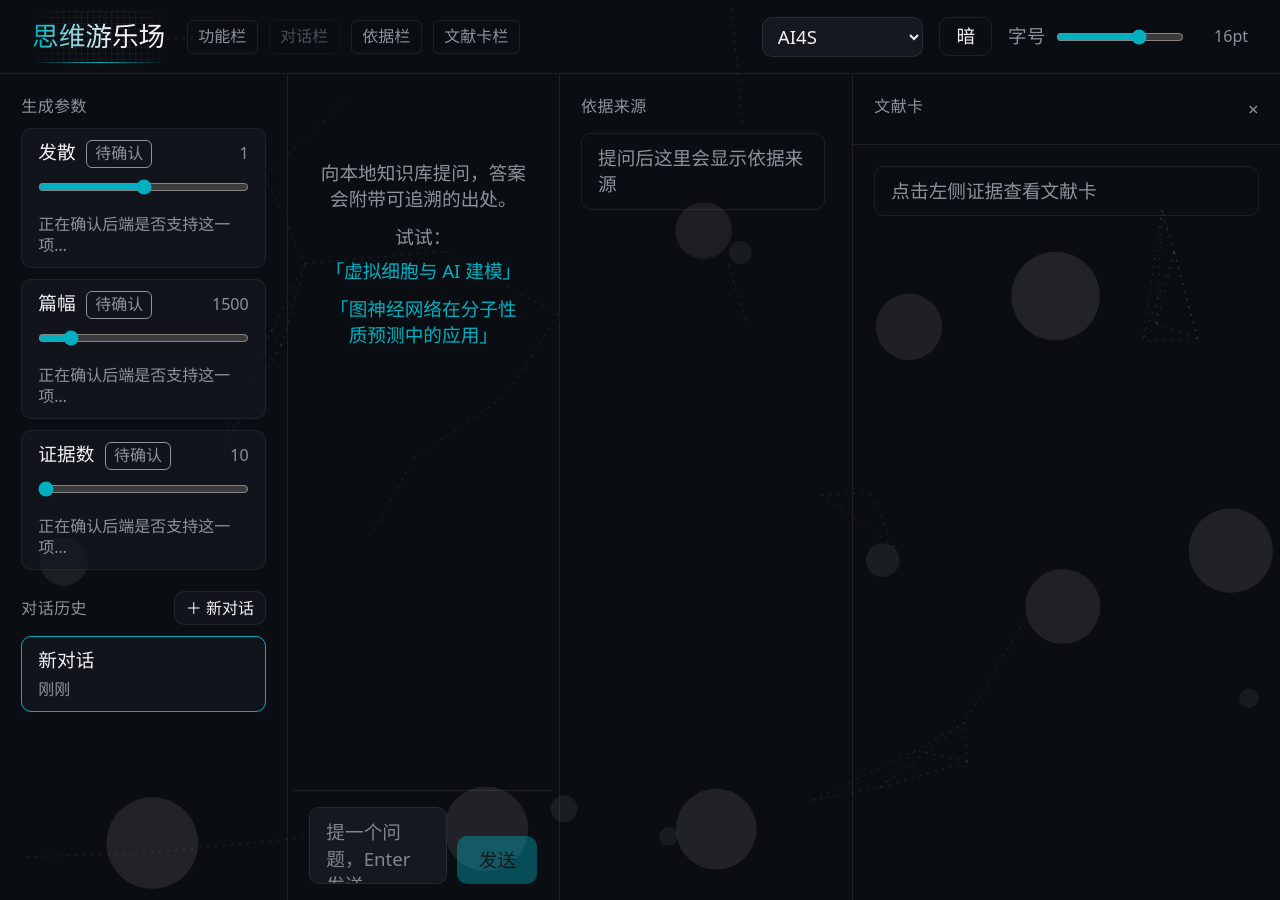
Test case: App › 关闭文献卡同时清掉选中态，再点同一张卡可重新打开（I1）
Type "自噬" into the text box.
click(378, 846); type("自噬")  # box [309,807,447,884]
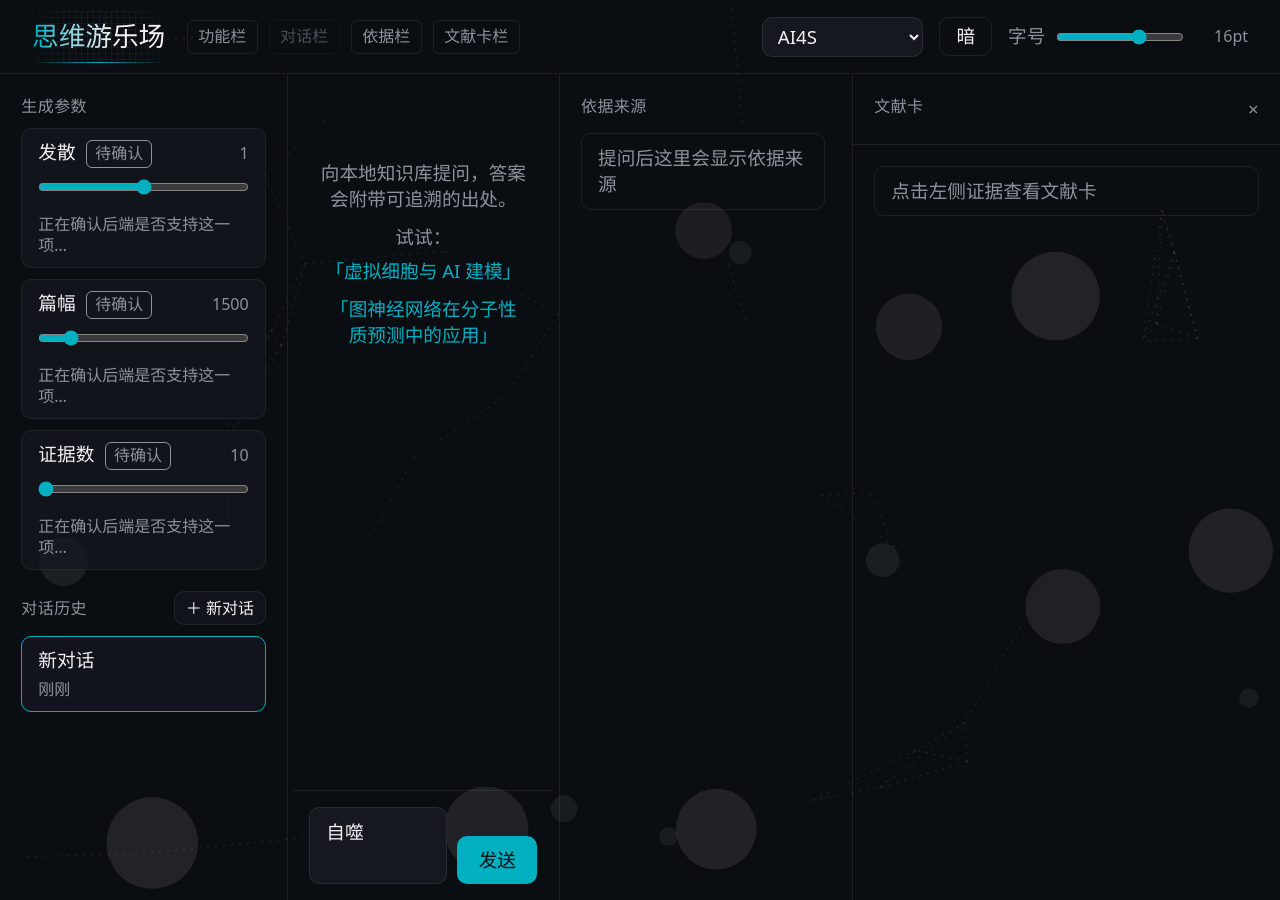
Press Enter in the text box, box [309,807,447,884]
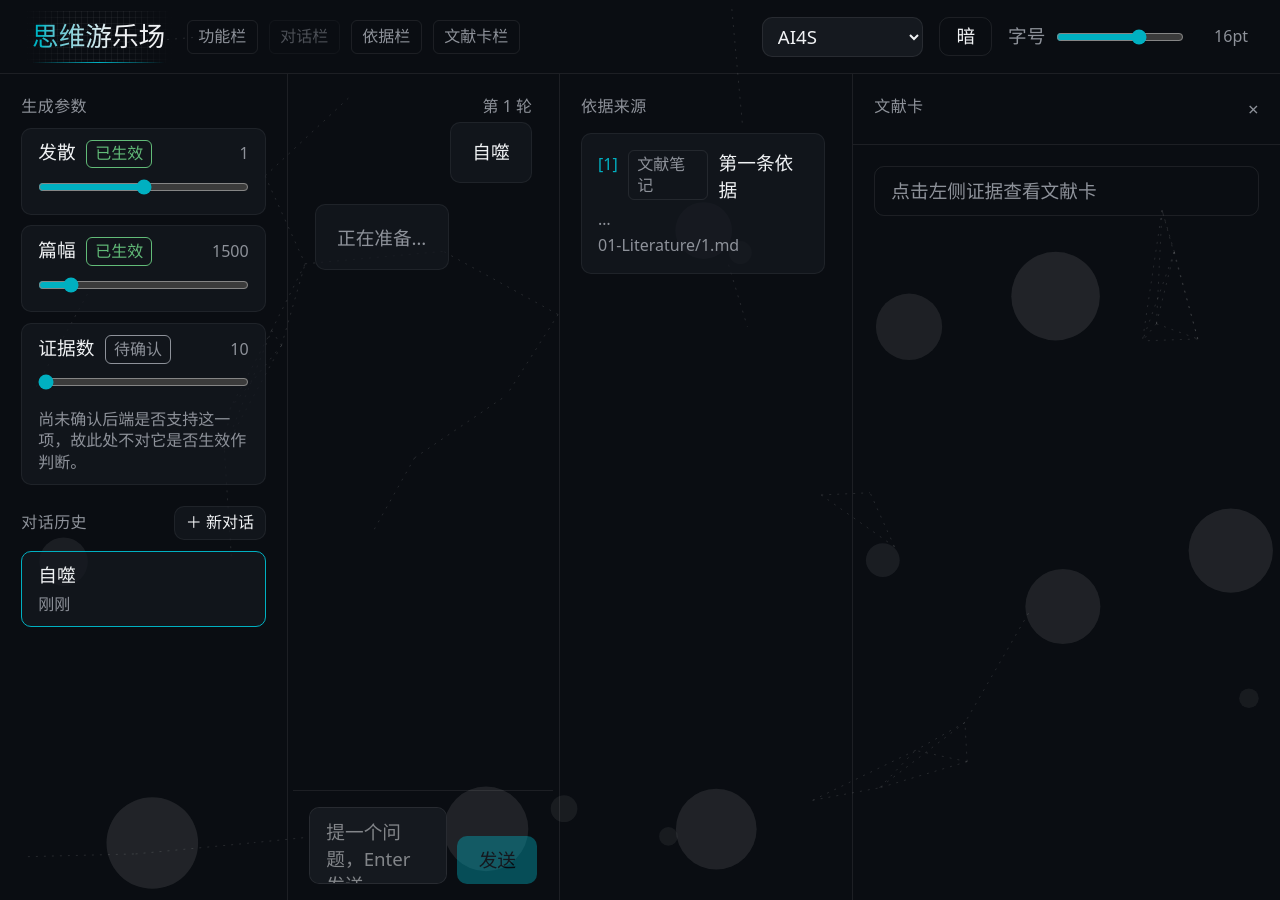
Now the text "第一条依据" is shown, box [719,150,793,202]
Click the button "[1] 文献笔记 第一条依据 … 01-Literature/1.md".
click(703, 203)  # box [598,150,808,257]
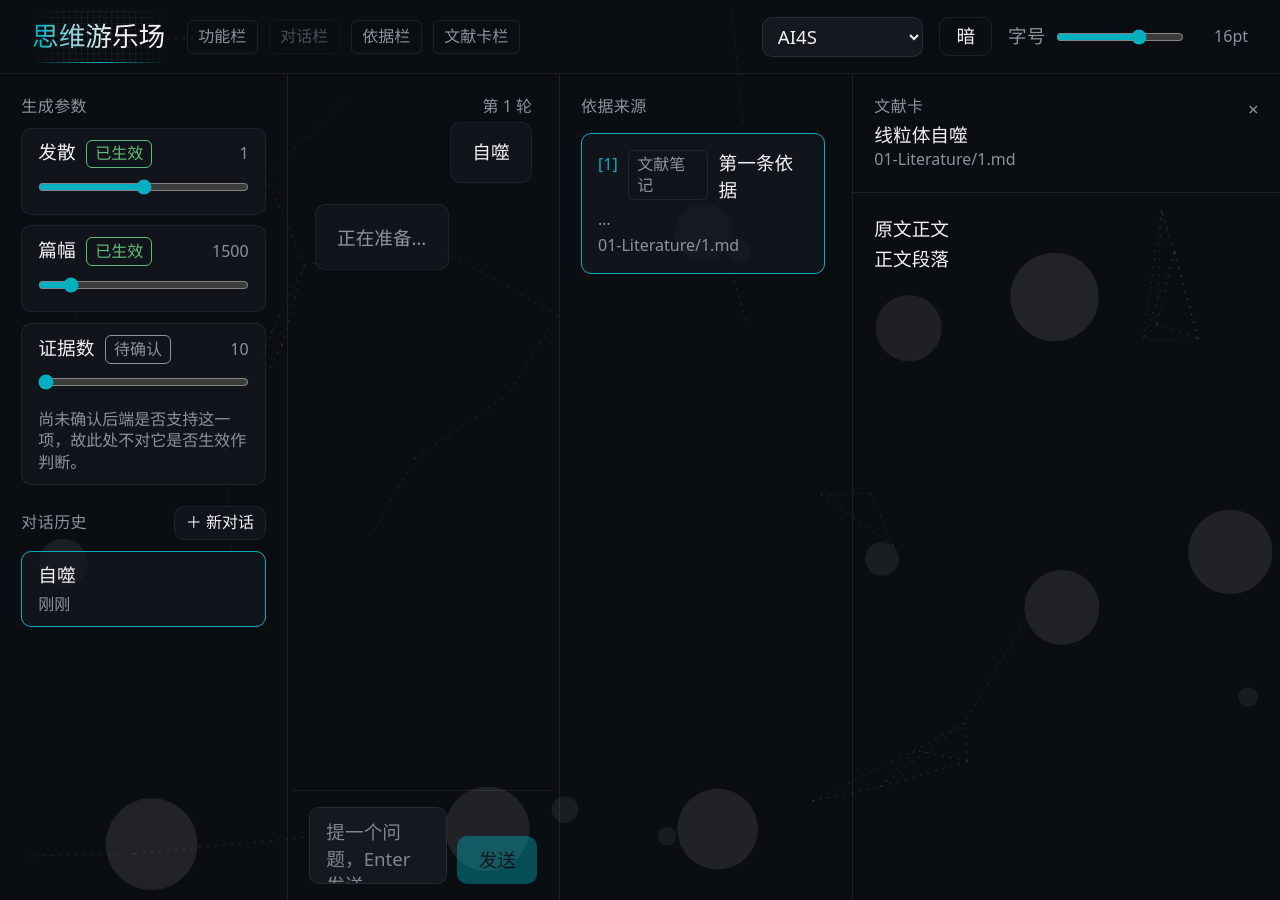
Now the element with test id "doc-ready" is shown, box [874,216,949,271]
// 关掉面板：选中态必须一并清掉，否则卡片继续「看起来还开着」
Click the button named "关闭文献卡".
click(1253, 109)  # box [1248,96,1259,122]
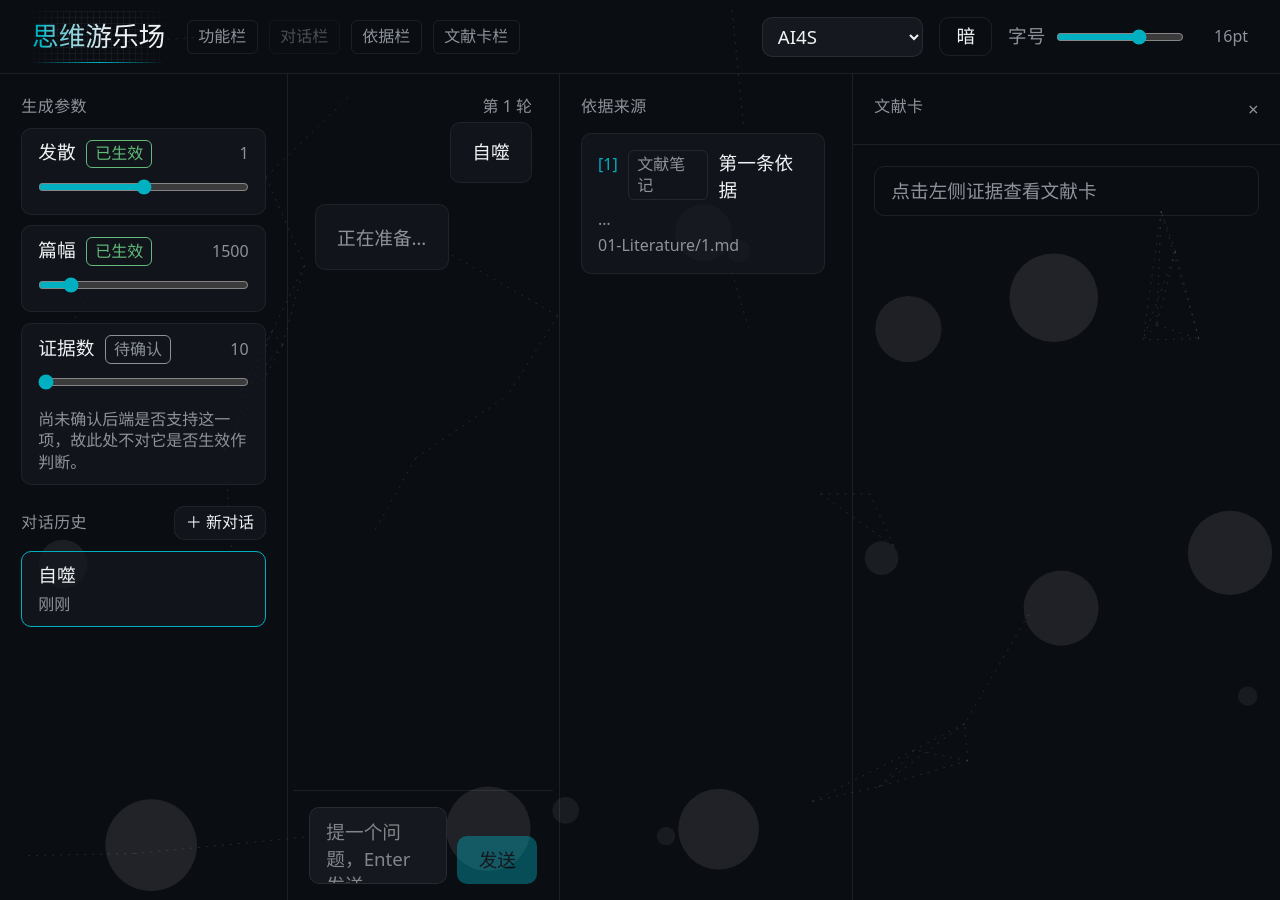
Now the text "点击左侧证据查看文献卡" is shown, box [874,166,1259,216]
Click the button "[1] 文献笔记 第一条依据 … 01-Literature/1.md".
click(703, 203)  # box [598,150,808,257]
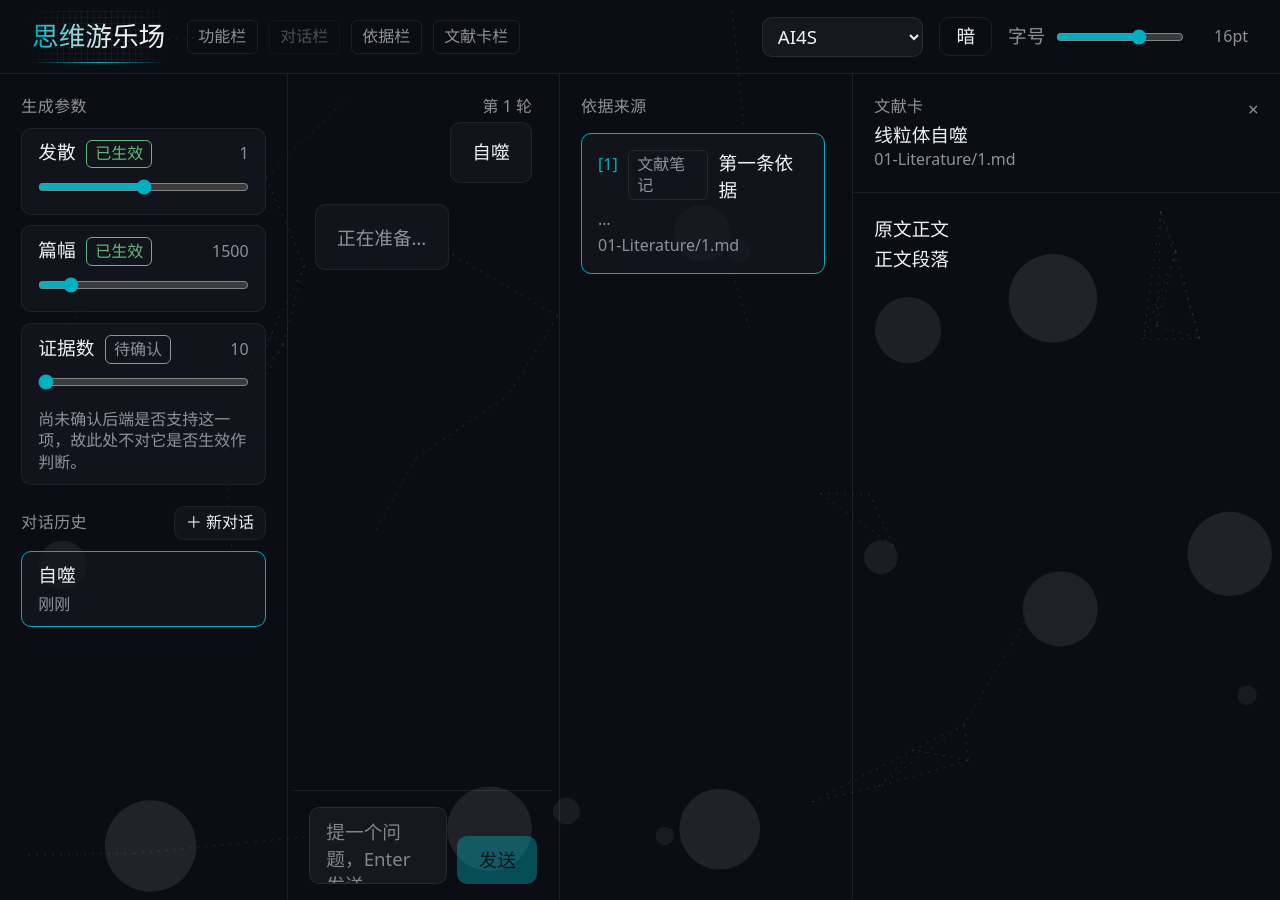
Now the element with test id "doc-ready" is shown, box [874,216,949,271]
